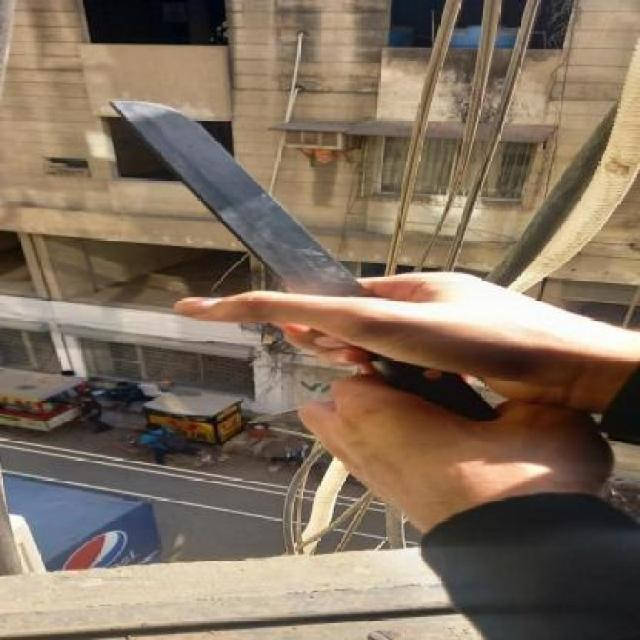knife: (110, 98, 498, 420)
